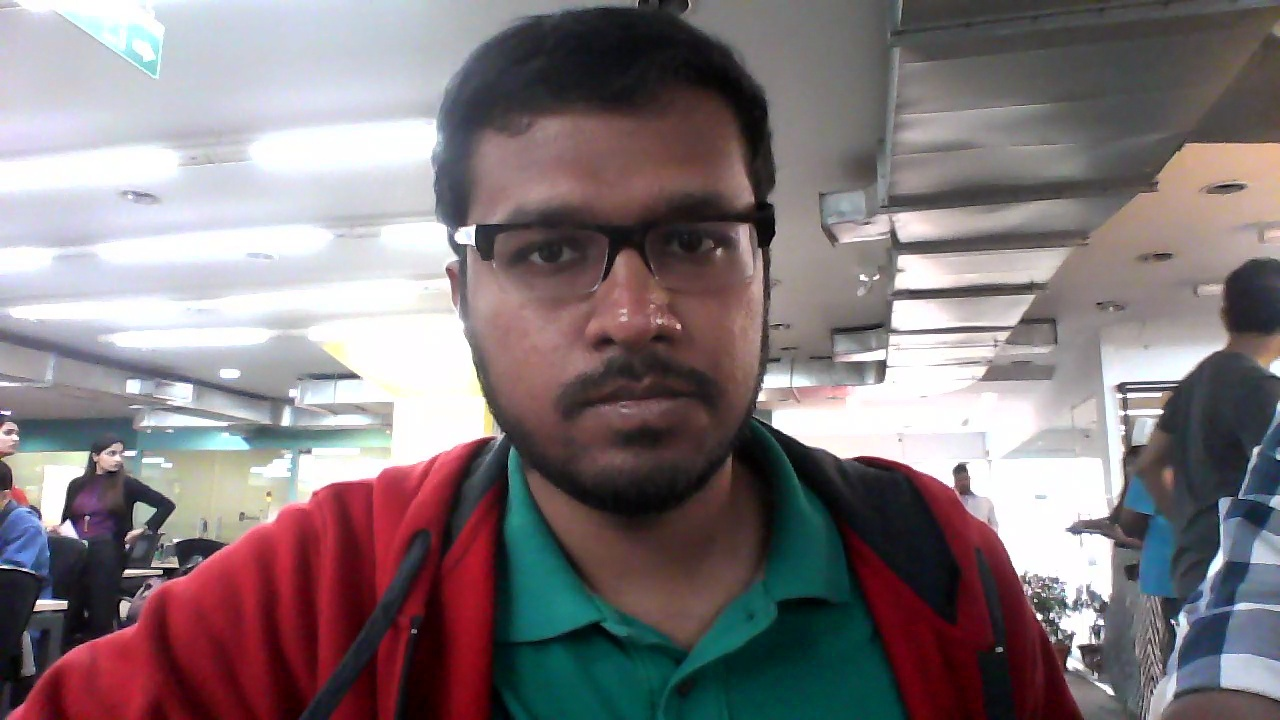open: (430, 3, 793, 523)
